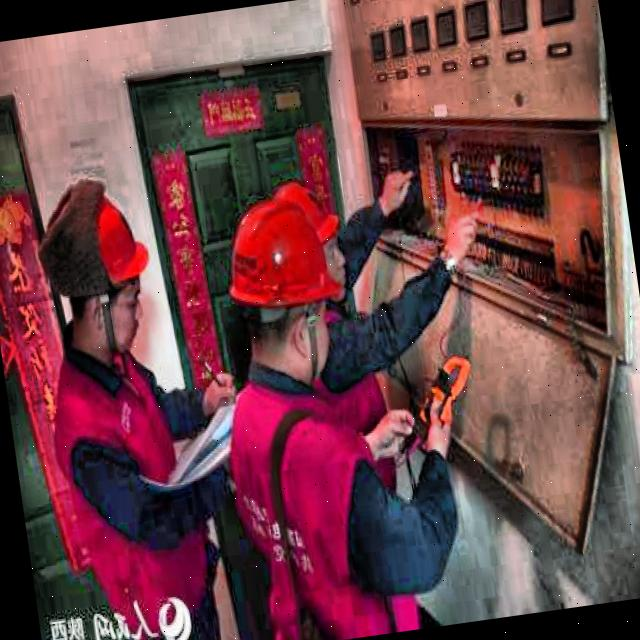helmet: (218, 184, 352, 390), (45, 180, 161, 358), (272, 170, 355, 310)
